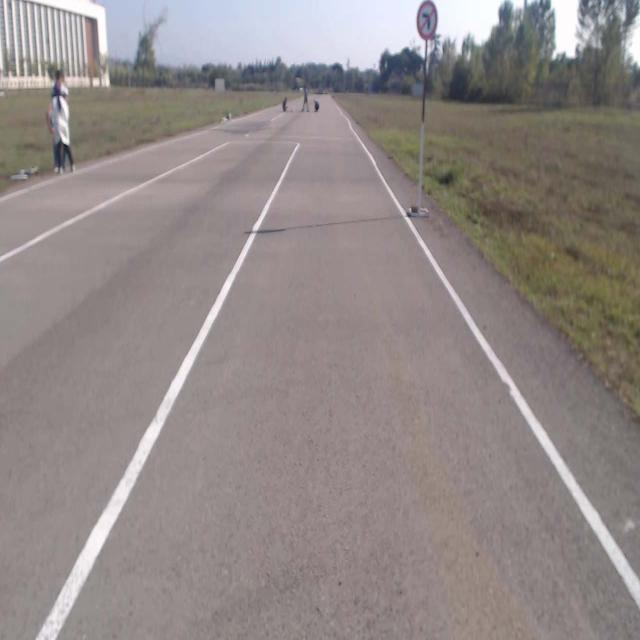soladonulmez: (416, 1, 438, 42)
